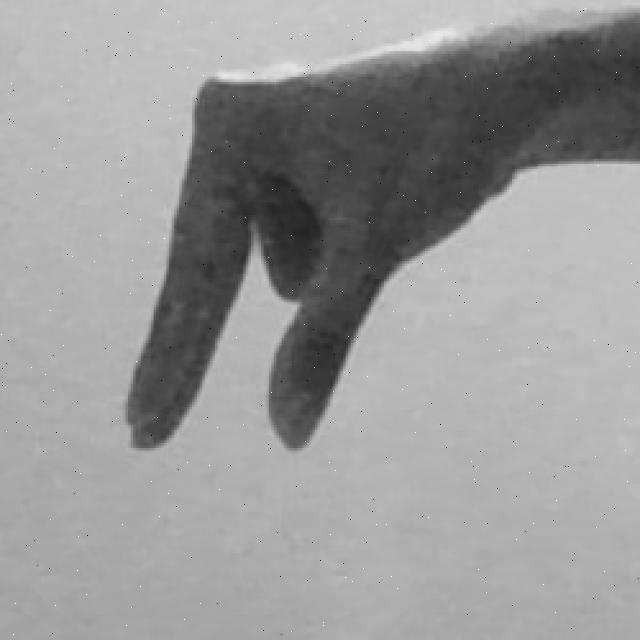Q: (115, 16, 554, 476)
